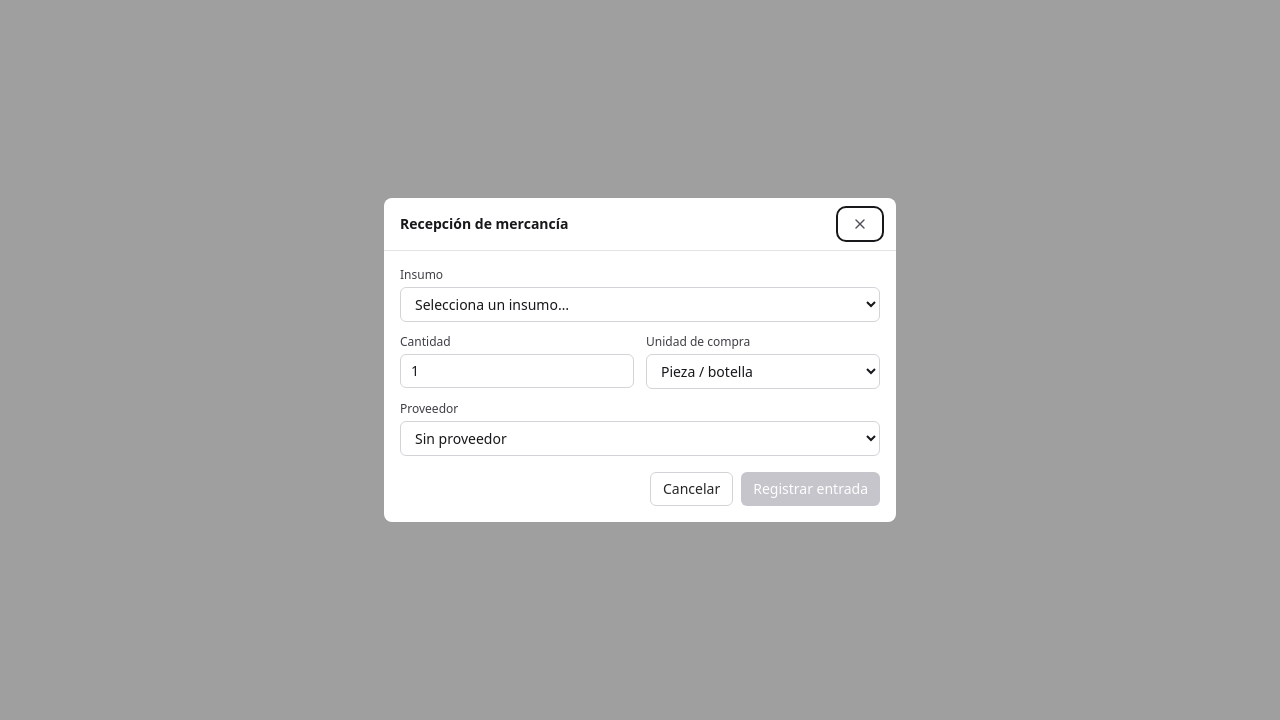
it: <ModalRecibirMercancia> › pide caducidad solo para lo que caduca
Select "Espadín Joven" in the dropdown labelled "Insumo" at (640, 304), box [400,287,880,322]
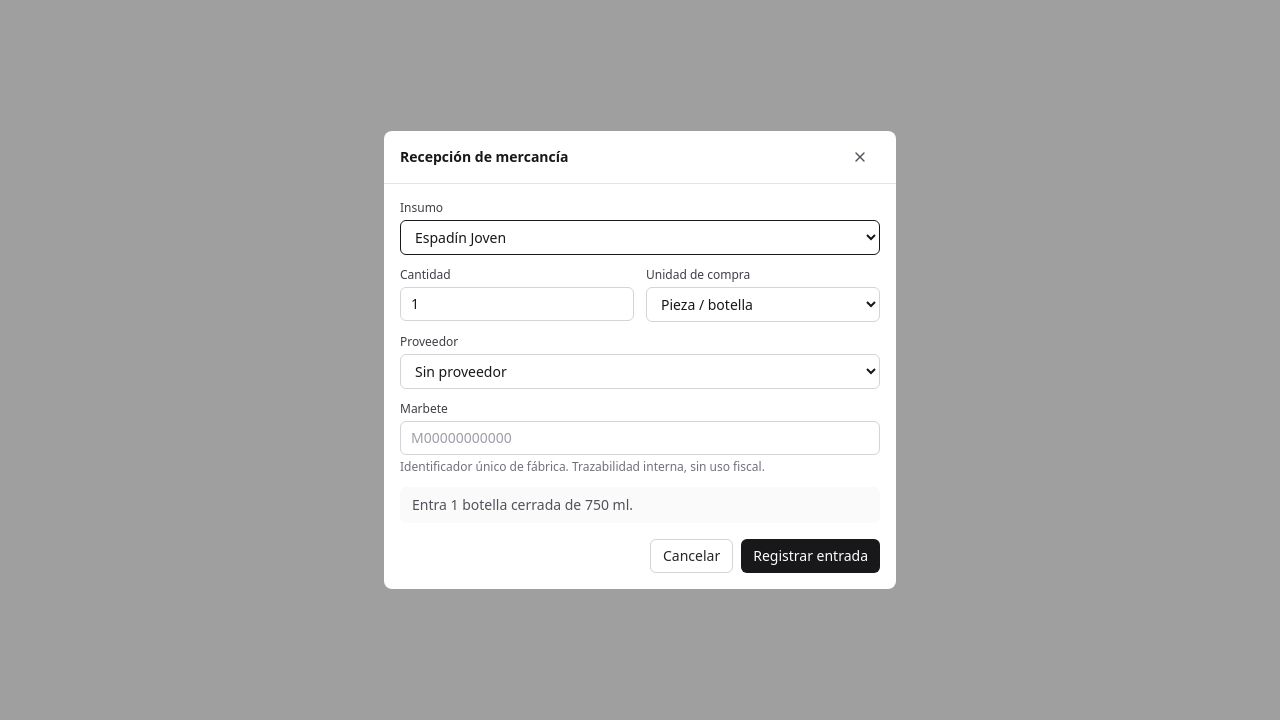
Check: the field labelled "Caducidad" is not shown
Select "Concentrado de jamaica" in the dropdown labelled "Insumo" at (640, 238), box [400,220,880,255]
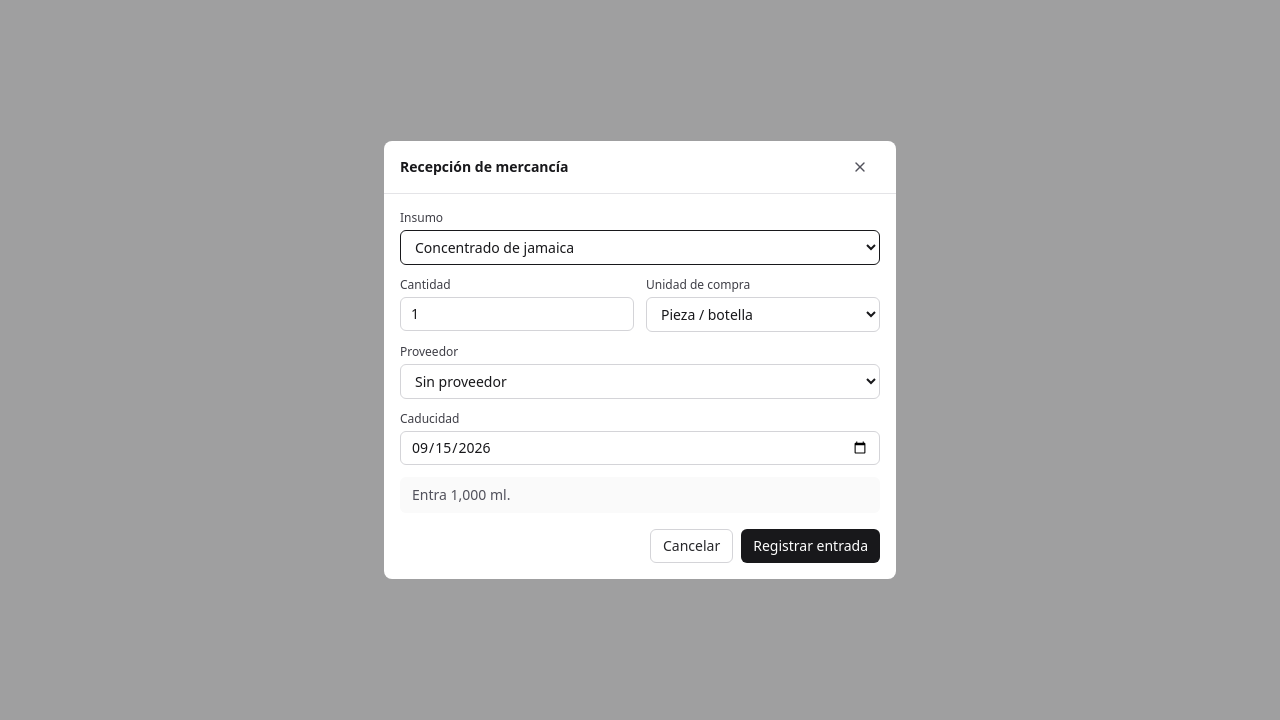
Check: the date field labelled "Caducidad" is shown, box [400,431,880,465]
